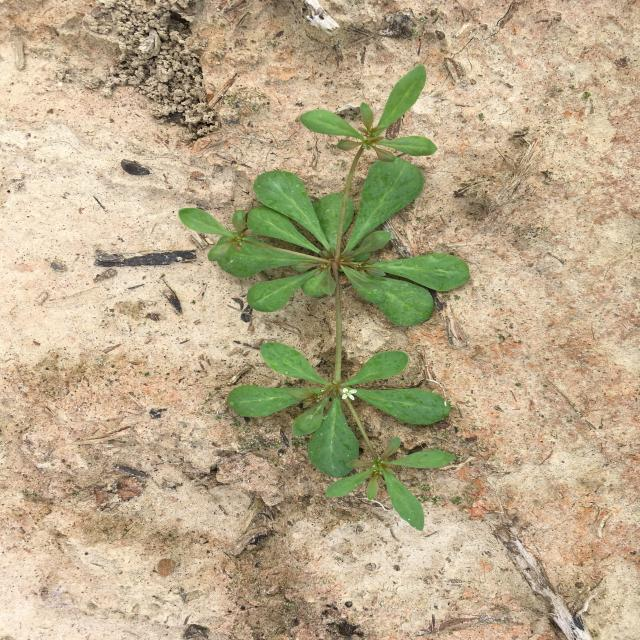Carpetweed: (178, 65, 470, 531)
